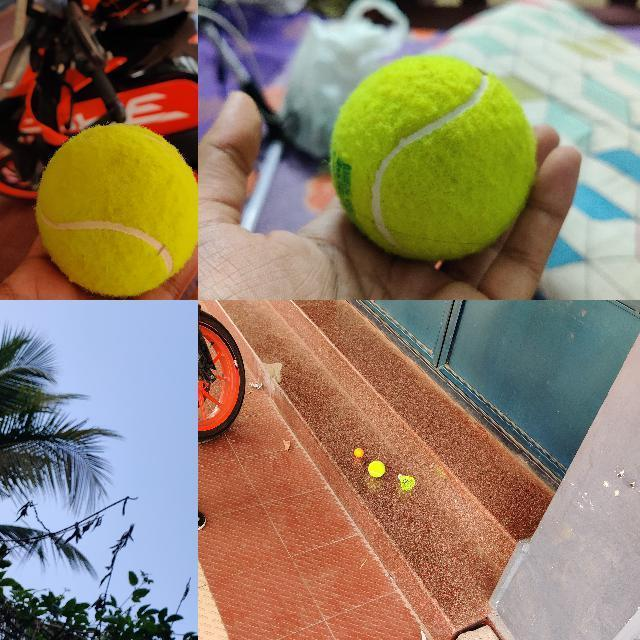tennis-ball: (328, 56, 538, 261), (34, 124, 197, 297), (368, 460, 385, 476)
